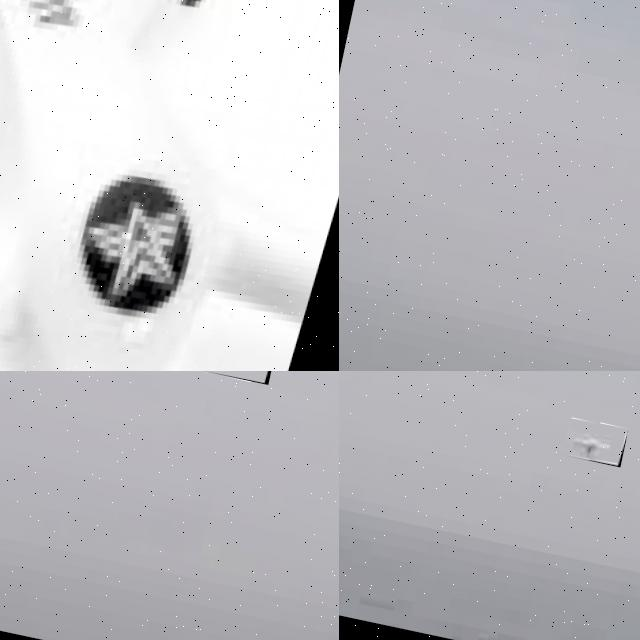0: (562, 417, 628, 467)
drone: (0, 0, 339, 371)
